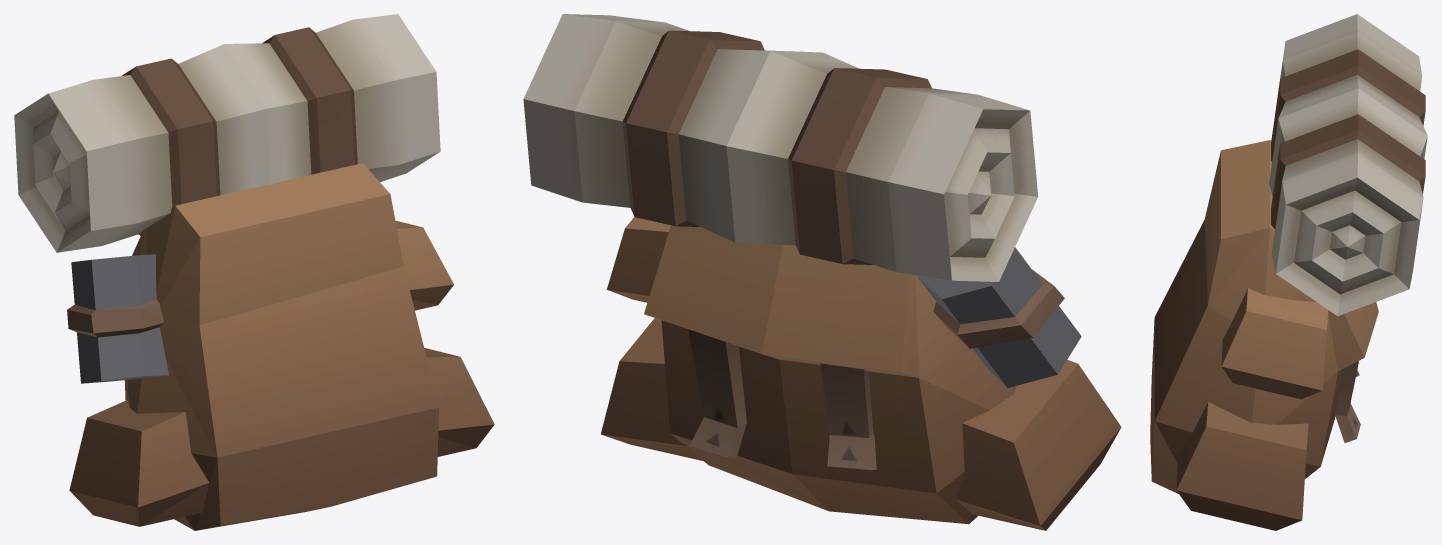
File: Player_Mayor.fbx
The picture shows the model from 3 angles, left to right: view 1: azimuth 30°, elevation 25°; view 2: azimuth 150°, elevation 25°; view 3: azimuth 270°, elevation 25°; orthographic projection. The views are drawn at different scales.
Parts seen in each view (by area): view 1: backpack_smith; view 2: backpack_smith; view 3: backpack_smith.
Part boxes in pixels (x1,y1,x2,y2): backpack_smith: [14, 14, 494, 530]; backpack_smith: [523, 14, 1121, 530]; backpack_smith: [1150, 14, 1427, 530].
Bounding box in the file's own units: 0.8008 × 0.8659 × 0.5703.
1 material, 1 textured.
